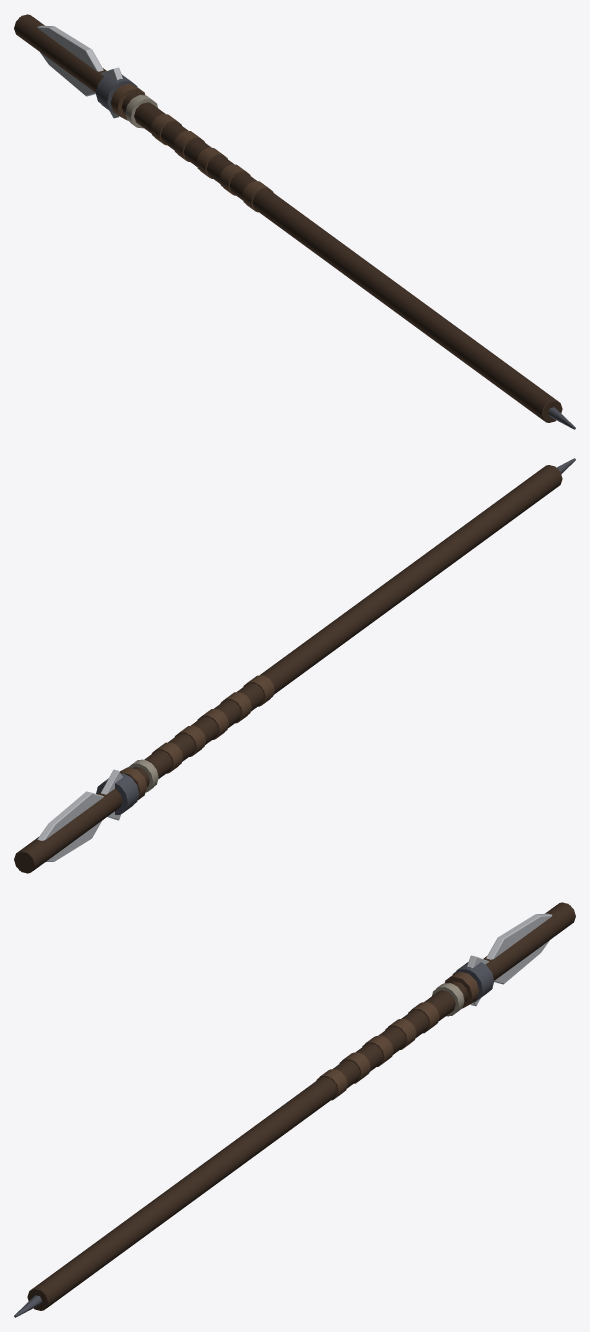
The model's file is m_spear.glb.
3 renders of one model, top to bottom at view 1: azimuth 30°, elevation 25°; view 2: azimuth 150°, elevation 25°; view 3: azimuth 330°, elevation 25°, orthographic.
Visible parts, largest first — view 1: L0, L1; view 2: L0, L1; view 3: L0, L1.
Boxes of the visible parts, x1,y1,x2,y2 form: L0: [14, 14, 575, 429]; L1: [19, 15, 557, 422]; L0: [14, 458, 575, 873]; L1: [19, 465, 557, 872]; L0: [14, 902, 575, 1317]; L1: [32, 903, 570, 1310].
Bounding box in the file's own units: 0.0405 × 0.06 × 1.2.
